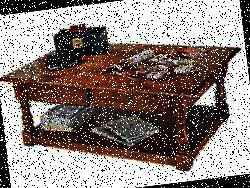Mesa: (0, 23, 249, 187)
